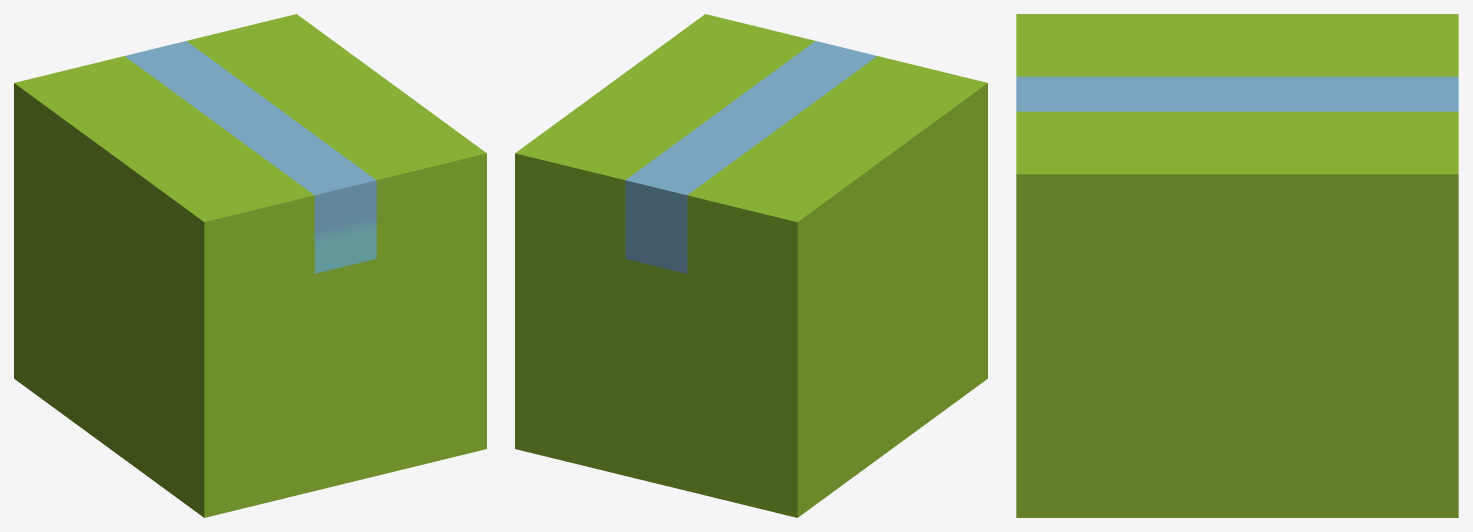
Rendered from Purple_Big_Box.fbx.
The picture shows the model from 3 angles, left to right: view 1: azimuth 30°, elevation 25°; view 2: azimuth 150°, elevation 25°; view 3: azimuth 270°, elevation 25°; orthographic projection. The views are drawn at different scales.
Visible parts, largest first — view 1: Purple_Big_Box; view 2: Purple_Big_Box; view 3: Purple_Big_Box.
Boxes of the visible parts, x1=… form: Purple_Big_Box: x1=14, y1=14, x2=486, y2=517; Purple_Big_Box: x1=515, y1=14, x2=987, y2=517; Purple_Big_Box: x1=1016, y1=14, x2=1458, y2=517.
Bounding box in the file's own units: 85.73 × 85.73 × 100.
